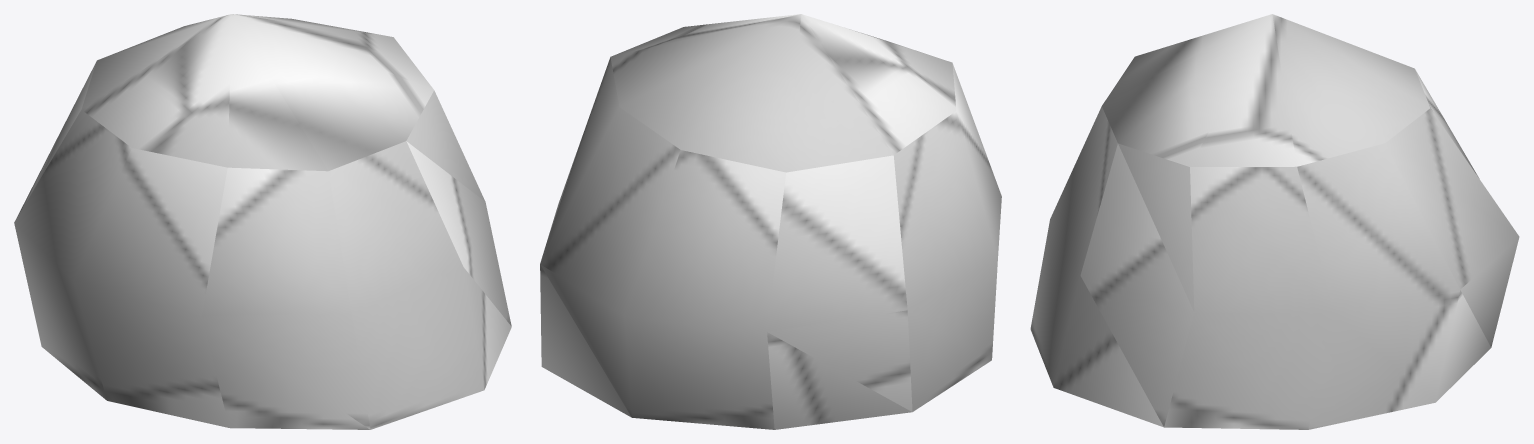
Rendered from boulder_1.obj.
3 views of the same model, side by side, from view 1: azimuth 30°, elevation 25°; view 2: azimuth 150°, elevation 25°; view 3: azimuth 270°, elevation 25° (orthographic). The views are drawn at different scales.
Visible parts, largest first — view 1: boulder_1; view 2: boulder_1; view 3: boulder_1.
Boxes of the visible parts, x1,y1,x2,y2 form: boulder_1: [14, 14, 511, 429]; boulder_1: [540, 14, 1001, 429]; boulder_1: [1030, 14, 1519, 429].
Bounding box in the file's own units: 0.5803 × 0.4469 × 0.6391.
